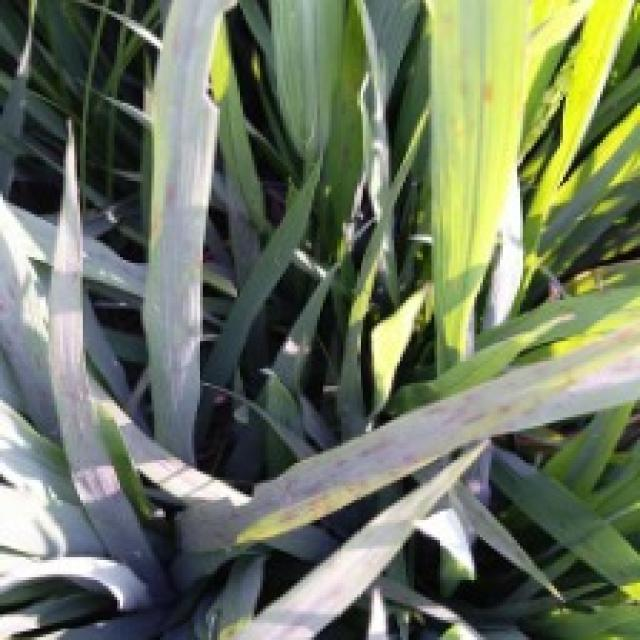Brown_Spot: (275, 480, 348, 530), (430, 399, 533, 430), (535, 373, 596, 395), (342, 445, 406, 463), (166, 174, 187, 212), (478, 74, 500, 107)
